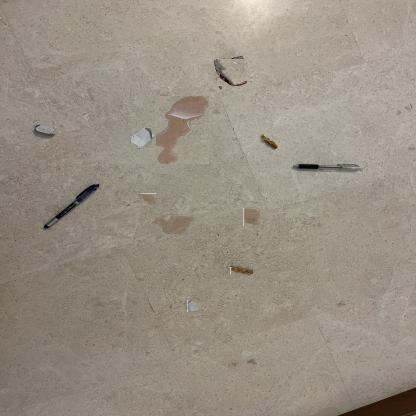dirty: (214, 56, 246, 88), (132, 128, 154, 148), (261, 134, 279, 148), (230, 266, 253, 274), (187, 300, 198, 312)
liquid: (155, 96, 209, 164), (150, 214, 194, 234), (243, 208, 260, 226), (140, 193, 156, 206), (234, 184, 242, 202), (210, 108, 220, 114)
